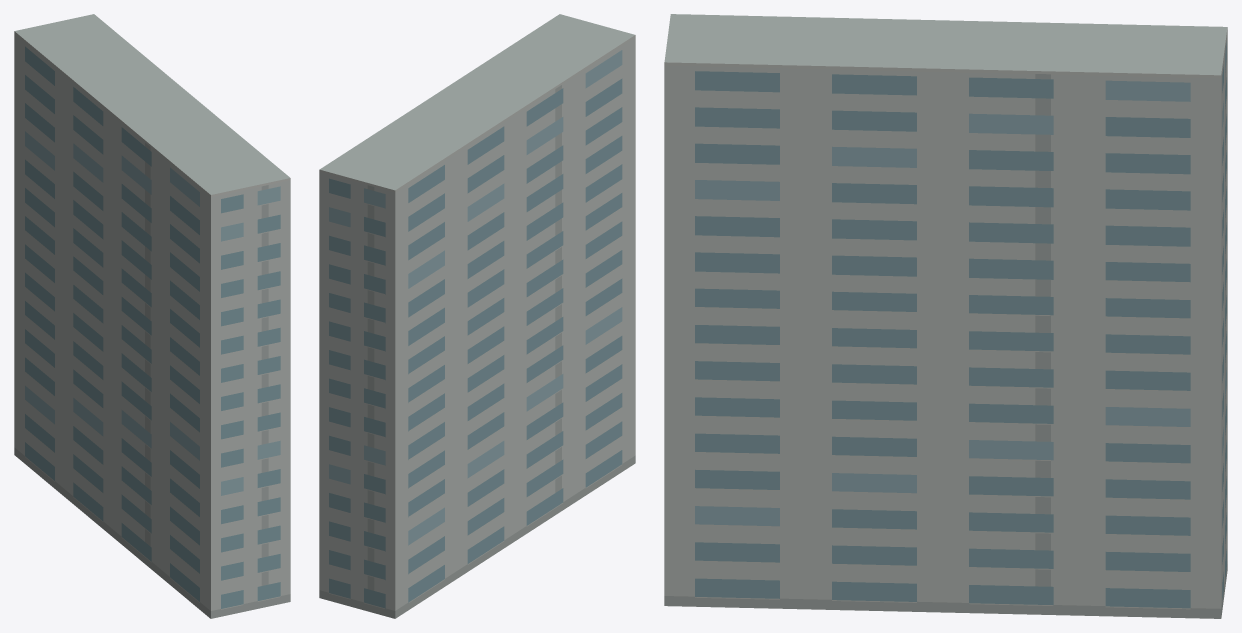
File: residential-d7055c2a-381a-4886-9ef6-85fd37df2876.glb
3 views of the same model, side by side, from view 1: azimuth 30°, elevation 25°; view 2: azimuth 150°, elevation 25°; view 3: azimuth 270°, elevation 25° (orthographic). The views are drawn at different scales.
Parts seen in each view (by area): view 1: residential-d7055c2a-381a-4886-9ef6-85fd37df2876.tmp; view 2: residential-d7055c2a-381a-4886-9ef6-85fd37df2876.tmp; view 3: residential-d7055c2a-381a-4886-9ef6-85fd37df2876.tmp.
Boxes of the visible parts, bbox=[...] form: residential-d7055c2a-381a-4886-9ef6-85fd37df2876.tmp: bbox=[14, 14, 290, 618]; residential-d7055c2a-381a-4886-9ef6-85fd37df2876.tmp: bbox=[319, 14, 635, 618]; residential-d7055c2a-381a-4886-9ef6-85fd37df2876.tmp: bbox=[664, 14, 1227, 618].
Bounding box in the file's own units: 11.08 × 45.75 × 42.96.
